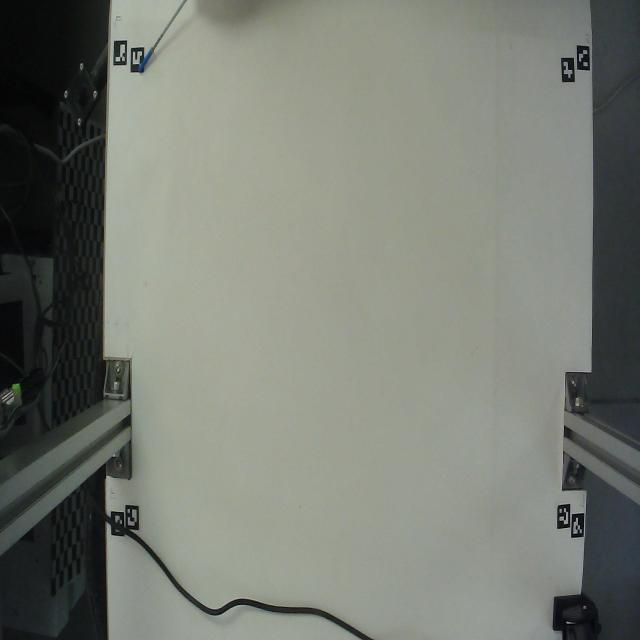Pres: (125, 0, 198, 94)
